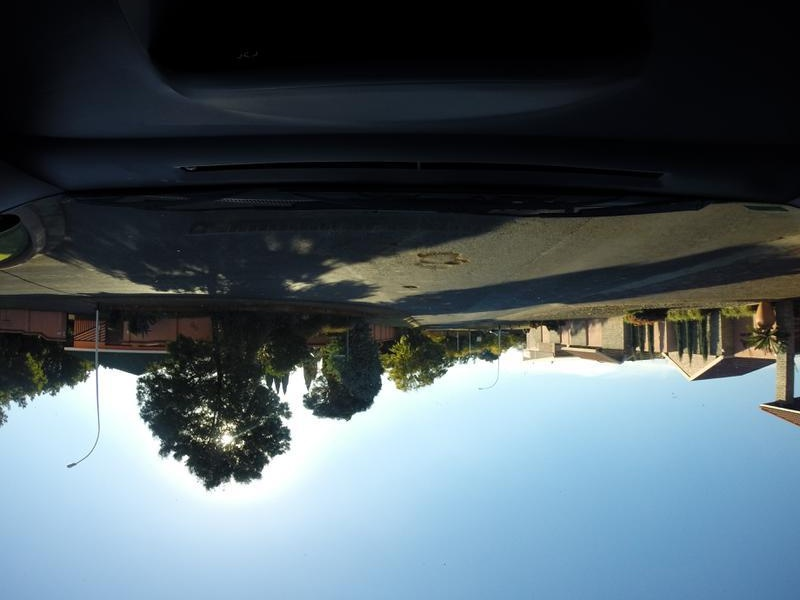pothole: (411, 240, 478, 277), (394, 278, 437, 294)
